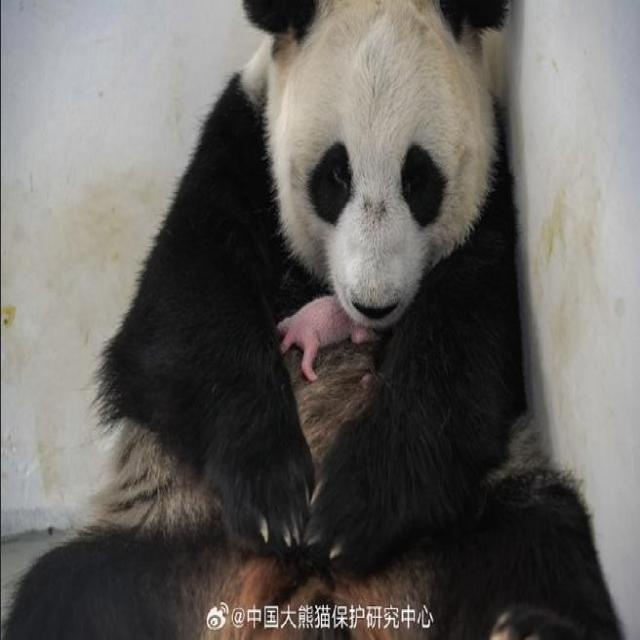panda: (56, 2, 584, 640)
